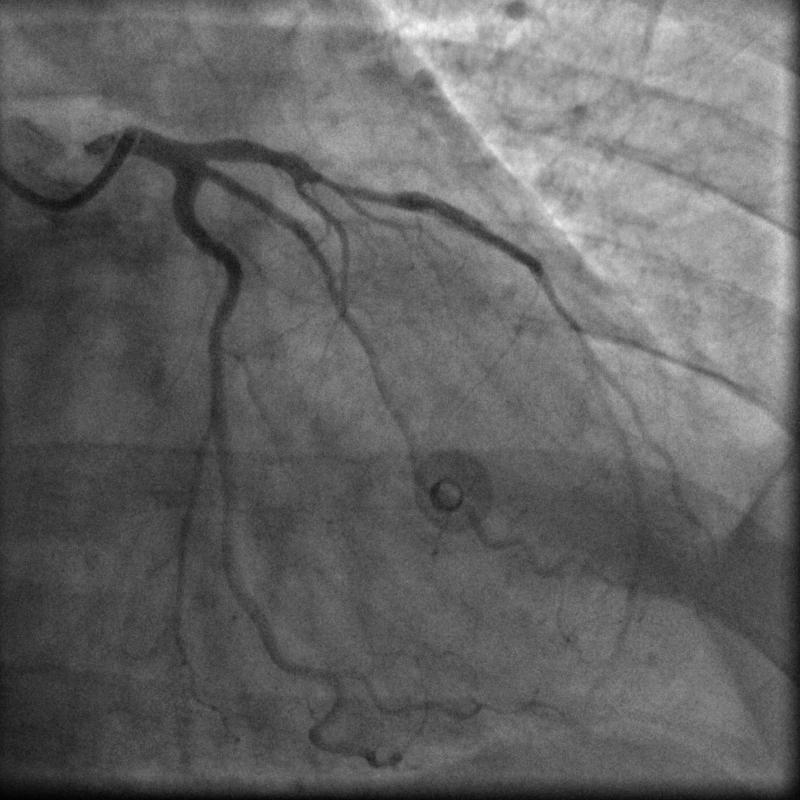Stenosis: (316, 168, 405, 211)
